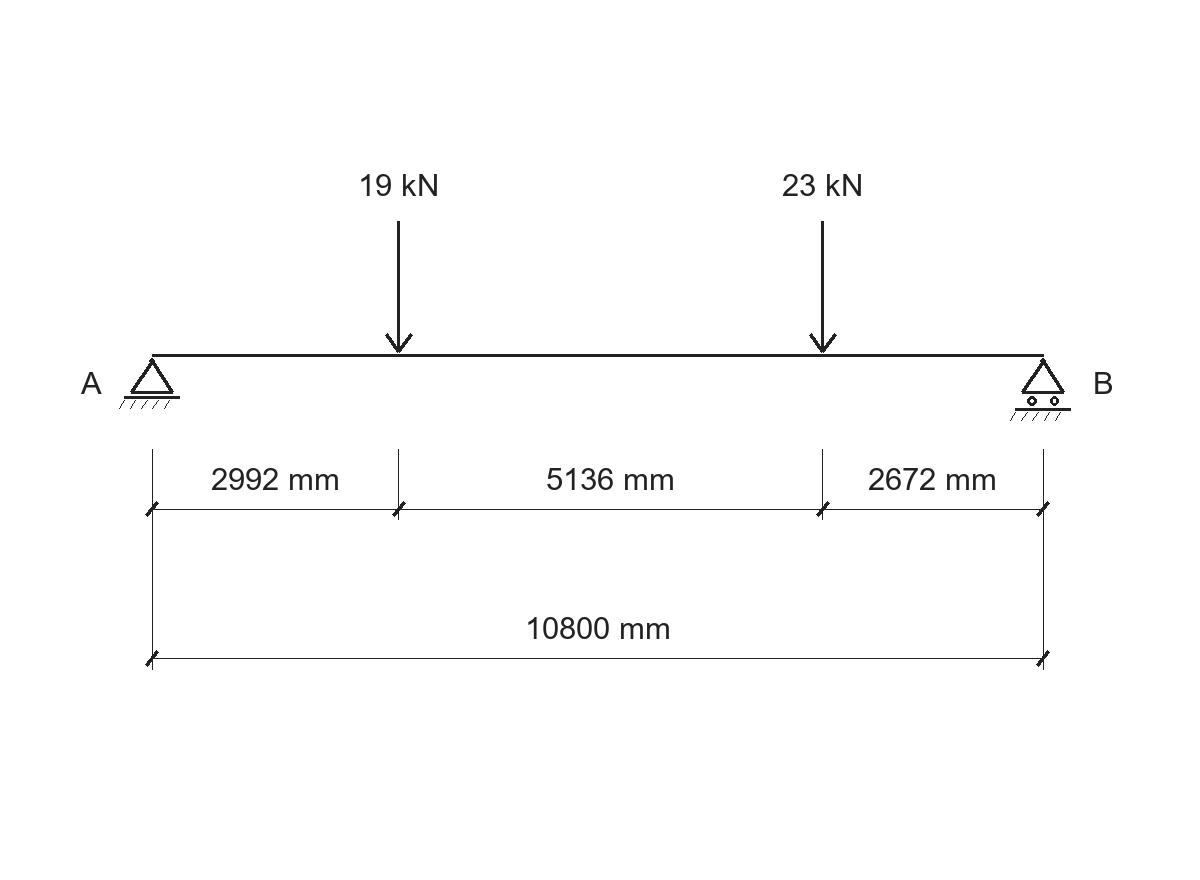pin_support: (119, 358, 180, 409)
point_load: (385, 221, 413, 353), (809, 221, 837, 353)
roller_support: (1010, 358, 1071, 421)
